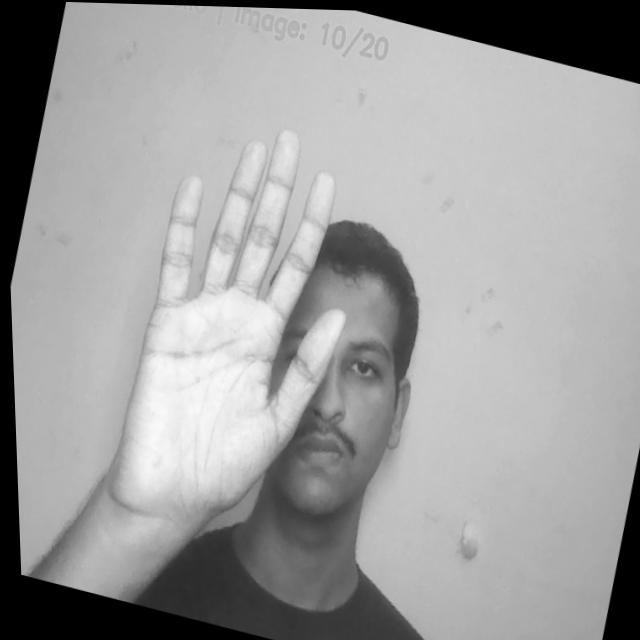Hello: (100, 103, 383, 557)
